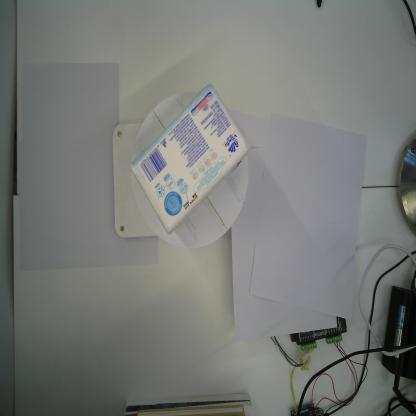Tissue: (128, 83, 251, 235)
